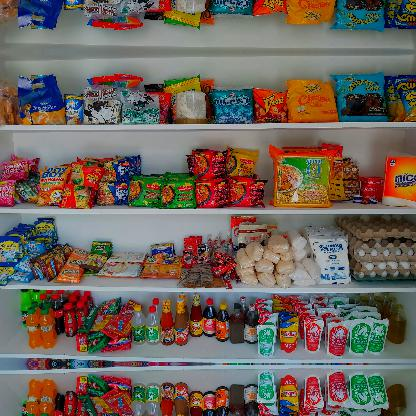Koko-Krunch: (175, 90, 207, 124), (175, 0, 208, 14)
